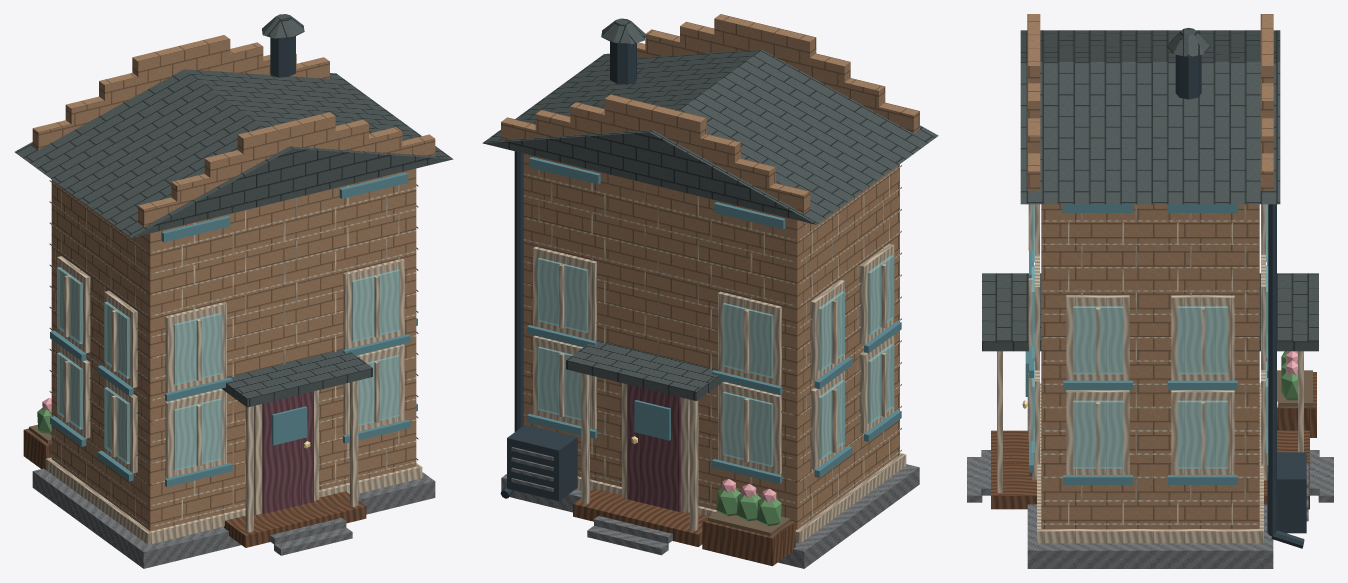
Rendered from house_lv3_b.glb.
3 views of the same model, side by side, from view 1: azimuth 30°, elevation 25°; view 2: azimuth 150°, elevation 25°; view 3: azimuth 270°, elevation 25° (orthographic). The views are drawn at different scales.
Parts seen in each view (by area): view 1: walls, gable_roof, foundation, front_door, front_porch_canopy, front_window_frame.003, front_window_frame.002, front_window_frame, floor_trim, front_deck, front_window_frame.001, front_window_glass (+34 smaller); view 2: walls, gable_roof, back_door, back_porch_canopy, back_window_frame.003, back_window_frame.002, back_window_frame, foundation, back_ac_unit, back_window_frame.001, back_deck, back_window_glass (+38 smaller); view 3: walls, gable_roof, foundation, right_window_frame.002, right_window_frame.003, right_window_frame, right_window_frame.001, floor_trim, front_porch_canopy, back_porch_canopy, right_window_glass, right_window_glass.001 (+32 smaller).
Boxes of the visible parts, x1=… form: walls: x1=51, y1=168, x2=416, y2=531; gable_roof: x1=14, y1=69, x2=453, y2=237; foundation: x1=32, y1=468, x2=435, y2=568; front_door: x1=262, y1=391, x2=313, y2=513; front_porch_canopy: x1=222, y1=349, x2=372, y2=407; front_window_frame.003: x1=343, y1=258, x2=404, y2=349; front_window_frame.002: x1=165, y1=302, x2=226, y2=392; front_window_frame: x1=165, y1=388, x2=226, y2=478; floor_trim: x1=45, y1=457, x2=422, y2=544; front_deck: x1=224, y1=491, x2=366, y2=547; front_window_frame.001: x1=343, y1=344, x2=404, y2=434; front_window_glass: x1=173, y1=398, x2=222, y2=470; walls: x1=523, y1=153, x2=899, y2=529; gable_roof: x1=482, y1=49, x2=938, y2=224; back_door: x1=627, y1=384, x2=680, y2=511; back_porch_canopy: x1=566, y1=340, x2=723, y2=400; back_window_frame.003: x1=533, y1=246, x2=596, y2=340; back_window_frame.002: x1=718, y1=291, x2=781, y2=385; back_window_frame: x1=718, y1=381, x2=781, y2=474; foundation: x1=501, y1=464, x2=919, y2=568; back_ac_unit: x1=507, y1=424, x2=577, y2=501; back_window_frame.001: x1=533, y1=335, x2=596, y2=429; back_deck: x1=573, y1=488, x2=708, y2=546; back_window_glass: x1=722, y1=391, x2=773, y2=466; walls: x1=1041, y1=204, x2=1259, y2=528; gable_roof: x1=1020, y1=30, x2=1280, y2=204; foundation: x1=1027, y1=397, x2=1273, y2=568; right_window_frame.002: x1=1066, y1=295, x2=1129, y2=380; right_window_frame.003: x1=1171, y1=295, x2=1234, y2=380; right_window_frame: x1=1066, y1=390, x2=1129, y2=474; right_window_frame.001: x1=1171, y1=390, x2=1234, y2=474; floor_trim: x1=1037, y1=383, x2=1263, y2=543; front_porch_canopy: x1=982, y1=273, x2=1041, y2=351; back_porch_canopy: x1=1259, y1=273, x2=1318, y2=351; right_window_glass: x1=1073, y1=400, x2=1123, y2=468; right_window_glass.001: x1=1177, y1=400, x2=1227, y2=468.
Size of the model in its own units: 3.3 by 4.38 by 2.94.
Materials: 13 (7 with a texture image).
